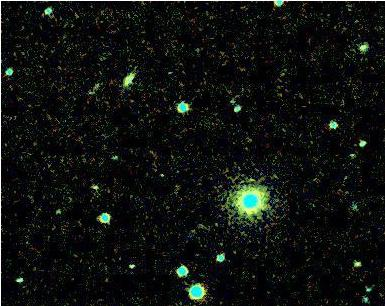star: (144, 161, 174, 191)
